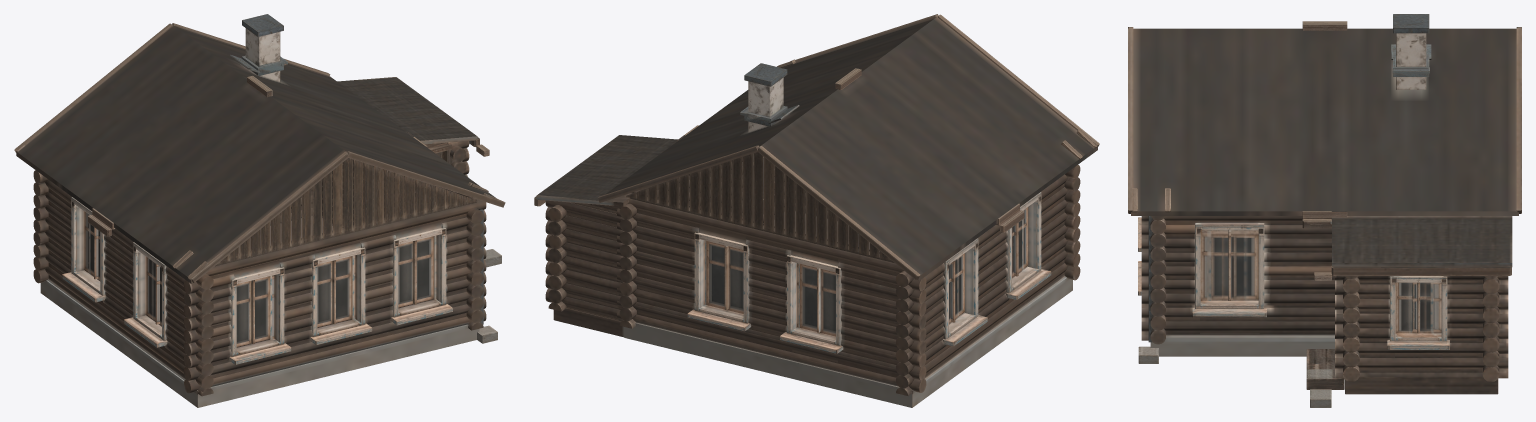
Rendered from variant-a-semantic-pbr-v2.glb.
The picture shows the model from 3 angles, left to right: view 1: azimuth 30°, elevation 25°; view 2: azimuth 150°, elevation 25°; view 3: azimuth 270°, elevation 25°; orthographic projection. The views are drawn at different scales.
Parts seen in each view (by area): view 1: VariantA_TimberGable_Dwelling_Roof_LOD0, VariantA_TimberGable_Dwelling_Street_LogCrown, VariantA_TimberGable_Dwelling_Front_BoardedGable_LOD0, VariantA_TimberGable_Dwelling_Left_LogCrown, VariantA_TimberGable_Dwelling_Street_Wall_LOD0, VariantA_TimberGable_Dwelling_Foundation_LOD0, VariantA_TimberGable_Dwelling_SeniRoof_LOD0, VariantA_TimberGable_Dwelling_Left_Wall_LOD0, VariantA_TimberGable_Dwelling_Street_Window1_Recess_LOD0, VariantA_TimberGable_Dwelling_Street_Window0_Recess_LOD0, VariantA_TimberGable_Dwelling_Street_Window2_Recess_LOD0, VariantA_TimberGable_Dwelling_FootingCap_LOD0 (+21 smaller); view 2: VariantA_TimberGable_Dwelling_Roof_LOD0, VariantA_TimberGable_Dwelling_Rear_LogCrown, VariantA_TimberGable_Dwelling_Back_BoardedGable_LOD0, VariantA_TimberGable_Dwelling_Rear_Wall_LOD0, VariantA_TimberGable_Dwelling_Left_LogCrown, VariantA_TimberGable_Dwelling_Foundation_LOD0, VariantA_TimberGable_Dwelling_SeniRear_LogCrown, VariantA_TimberGable_Dwelling_SeniRoof_LOD0, VariantA_TimberGable_Dwelling_Left_Wall_LOD0, VariantA_TimberGable_Dwelling_Rear_Window0_Recess_LOD0, VariantA_TimberGable_Dwelling_Rear_Window1_Recess_LOD0, VariantA_TimberGable_Dwelling_FootingCap_LOD0 (+17 smaller); view 3: VariantA_TimberGable_Dwelling_Roof_LOD0, VariantA_TimberGable_Dwelling_Right_LogCrown, VariantA_TimberGable_Dwelling_SeniRoof_LOD0, VariantA_TimberGable_Dwelling_SeniOuter_LogCrown, VariantA_TimberGable_Dwelling_Right_Wall_LOD0, VariantA_TimberGable_Dwelling_Right_Window0_Recess_LOD0, VariantA_TimberGable_Dwelling_SeniOuter_Wall_LOD0, VariantA_TimberGable_Dwelling_Foundation_LOD0, VariantA_TimberGable_Dwelling_SeniFooting_LOD0, VariantA_TimberGable_Dwelling_SeniOuter_Window0_Recess_LOD0, VariantA_TimberGable_Dwelling_Street_LogCrown, VariantA_TimberGable_Dwelling_SeniTrough_LOD0 (+21 smaller).
Boxes of the visible parts, x1=… form: VariantA_TimberGable_Dwelling_Roof_LOD0: x1=16, y1=25, x2=503, y2=283; VariantA_TimberGable_Dwelling_Street_LogCrown: x1=184, y1=198, x2=486, y2=393; VariantA_TimberGable_Dwelling_Front_BoardedGable_LOD0: x1=215, y1=158, x2=476, y2=265; VariantA_TimberGable_Dwelling_Left_LogCrown: x1=45, y1=179, x2=213, y2=396; VariantA_TimberGable_Dwelling_Street_Wall_LOD0: x1=210, y1=197, x2=477, y2=378; VariantA_TimberGable_Dwelling_Foundation_LOD0: x1=40, y1=282, x2=479, y2=407; VariantA_TimberGable_Dwelling_SeniRoof_LOD0: x1=337, y1=77, x2=477, y2=144; VariantA_TimberGable_Dwelling_Left_Wall_LOD0: x1=48, y1=188, x2=185, y2=378; VariantA_TimberGable_Dwelling_Street_Window1_Recess_LOD0: x1=317, y1=255, x2=355, y2=328; VariantA_TimberGable_Dwelling_Street_Window0_Recess_LOD0: x1=236, y1=275, x2=274, y2=347; VariantA_TimberGable_Dwelling_Street_Window2_Recess_LOD0: x1=398, y1=235, x2=436, y2=308; VariantA_TimberGable_Dwelling_FootingCap_LOD0: x1=44, y1=216, x2=468, y2=394; VariantA_TimberGable_Dwelling_Roof_LOD0: x1=599, y1=16, x2=1097, y2=280; VariantA_TimberGable_Dwelling_Rear_LogCrown: x1=617, y1=193, x2=926, y2=392; VariantA_TimberGable_Dwelling_Back_BoardedGable_LOD0: x1=626, y1=152, x2=893, y2=262; VariantA_TimberGable_Dwelling_Rear_Wall_LOD0: x1=631, y1=192, x2=899, y2=377; VariantA_TimberGable_Dwelling_Left_LogCrown: x1=896, y1=174, x2=1068, y2=395; VariantA_TimberGable_Dwelling_Foundation_LOD0: x1=624, y1=279, x2=1072, y2=407; VariantA_TimberGable_Dwelling_SeniRear_LogCrown: x1=545, y1=200, x2=623, y2=317; VariantA_TimberGable_Dwelling_SeniRoof_LOD0: x1=536, y1=135, x2=677, y2=206; VariantA_TimberGable_Dwelling_Left_Wall_LOD0: x1=924, y1=183, x2=1064, y2=378; VariantA_TimberGable_Dwelling_Rear_Window0_Recess_LOD0: x1=705, y1=240, x2=743, y2=313; VariantA_TimberGable_Dwelling_Rear_Window1_Recess_LOD0: x1=797, y1=263, x2=835, y2=336; VariantA_TimberGable_Dwelling_FootingCap_LOD0: x1=623, y1=211, x2=1069, y2=394; VariantA_TimberGable_Dwelling_Roof_LOD0: x1=1131, y1=28, x2=1518, y2=215; VariantA_TimberGable_Dwelling_Right_LogCrown: x1=1141, y1=216, x2=1334, y2=340; VariantA_TimberGable_Dwelling_SeniRoof_LOD0: x1=1332, y1=216, x2=1512, y2=266; VariantA_TimberGable_Dwelling_SeniOuter_LogCrown: x1=1335, y1=276, x2=1508, y2=378; VariantA_TimberGable_Dwelling_Right_Wall_LOD0: x1=1165, y1=220, x2=1334, y2=334; VariantA_TimberGable_Dwelling_Right_Window0_Recess_LOD0: x1=1200, y1=229, x2=1258, y2=300; VariantA_TimberGable_Dwelling_SeniOuter_Wall_LOD0: x1=1359, y1=279, x2=1482, y2=372; VariantA_TimberGable_Dwelling_Foundation_LOD0: x1=1150, y1=341, x2=1334, y2=356; VariantA_TimberGable_Dwelling_SeniFooting_LOD0: x1=1345, y1=378, x2=1498, y2=394; VariantA_TimberGable_Dwelling_SeniOuter_Window0_Recess_LOD0: x1=1395, y1=282, x2=1441, y2=333; VariantA_TimberGable_Dwelling_Street_LogCrown: x1=1150, y1=216, x2=1165, y2=344; VariantA_TimberGable_Dwelling_SeniTrough_LOD0: x1=1331, y1=266, x2=1511, y2=275.
Bounding box in the file's own units: 8.56 × 5.23 × 6.62.
1 material, 1 textured.
